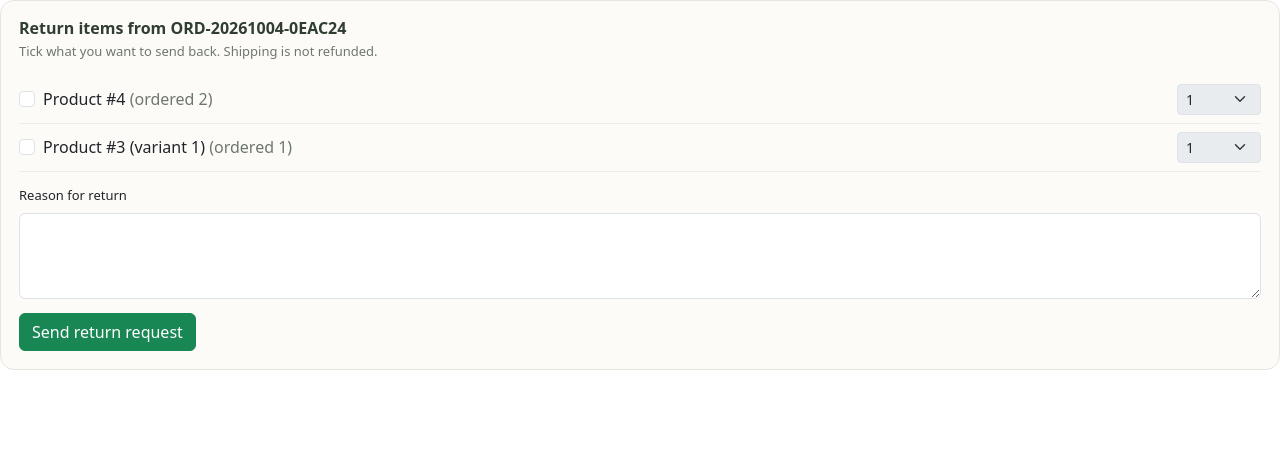
Test: ReturnRequestForm › asks for an item before sending anything
Type "damaged" into the text box labelled "Reason for return". click: (640, 256)
box: [19,213,1261,299]
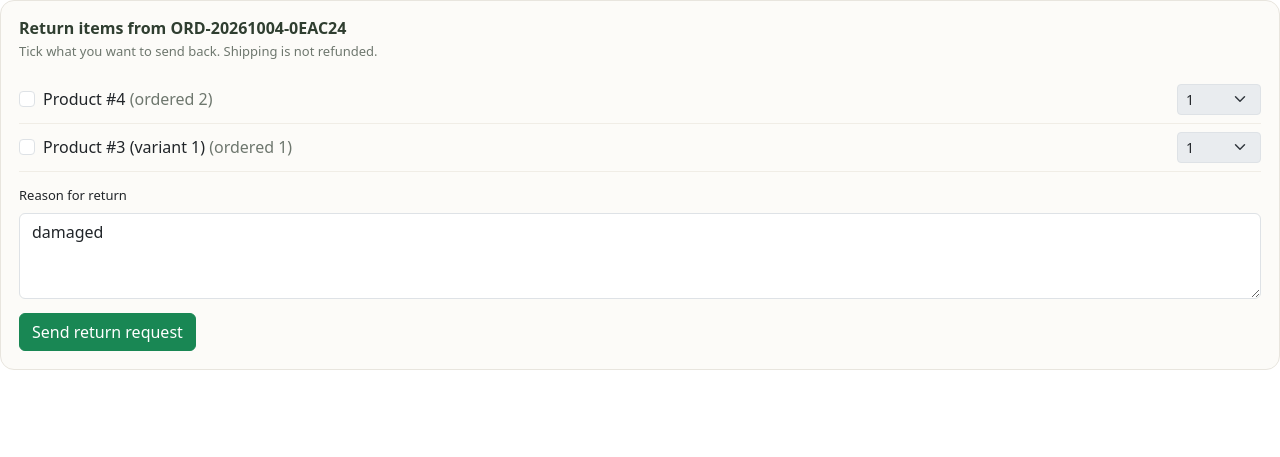
Click the button "Send return request". click: click(107, 332)
box: [19,313,196,351]
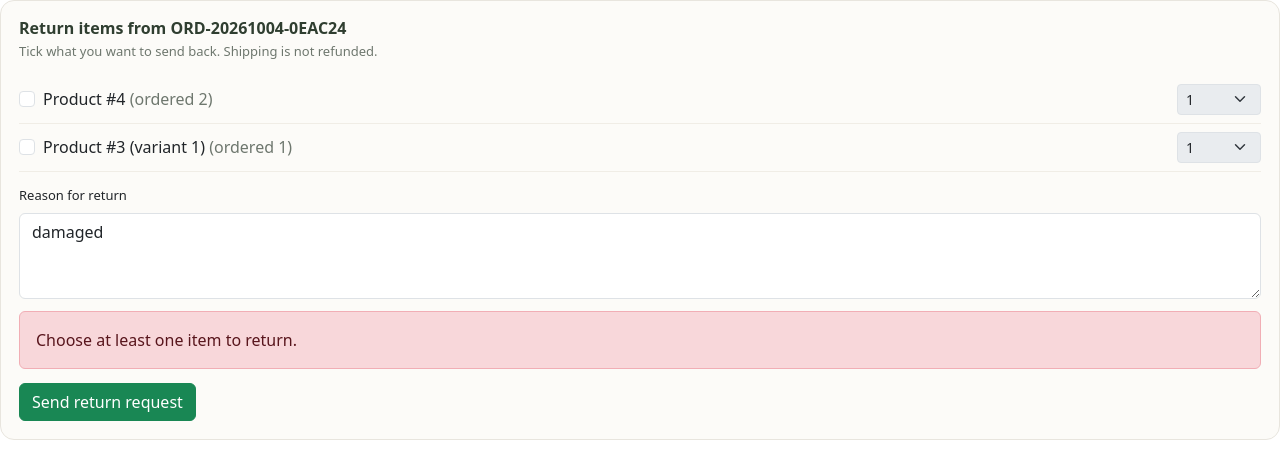
expect the message shows "Choose at least one item": met, box [36,329,297,351]
